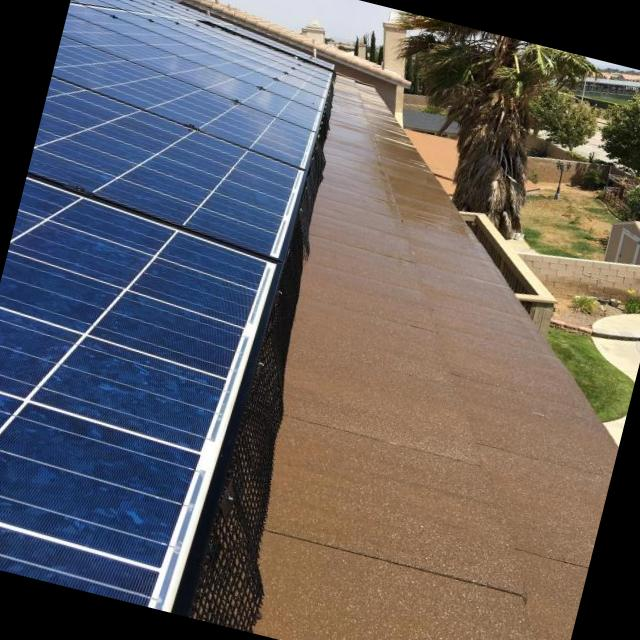no faulty: (0, 176, 266, 600), (27, 78, 295, 259), (55, 34, 316, 165), (63, 15, 318, 129), (67, 4, 323, 110), (90, 8, 327, 98)
